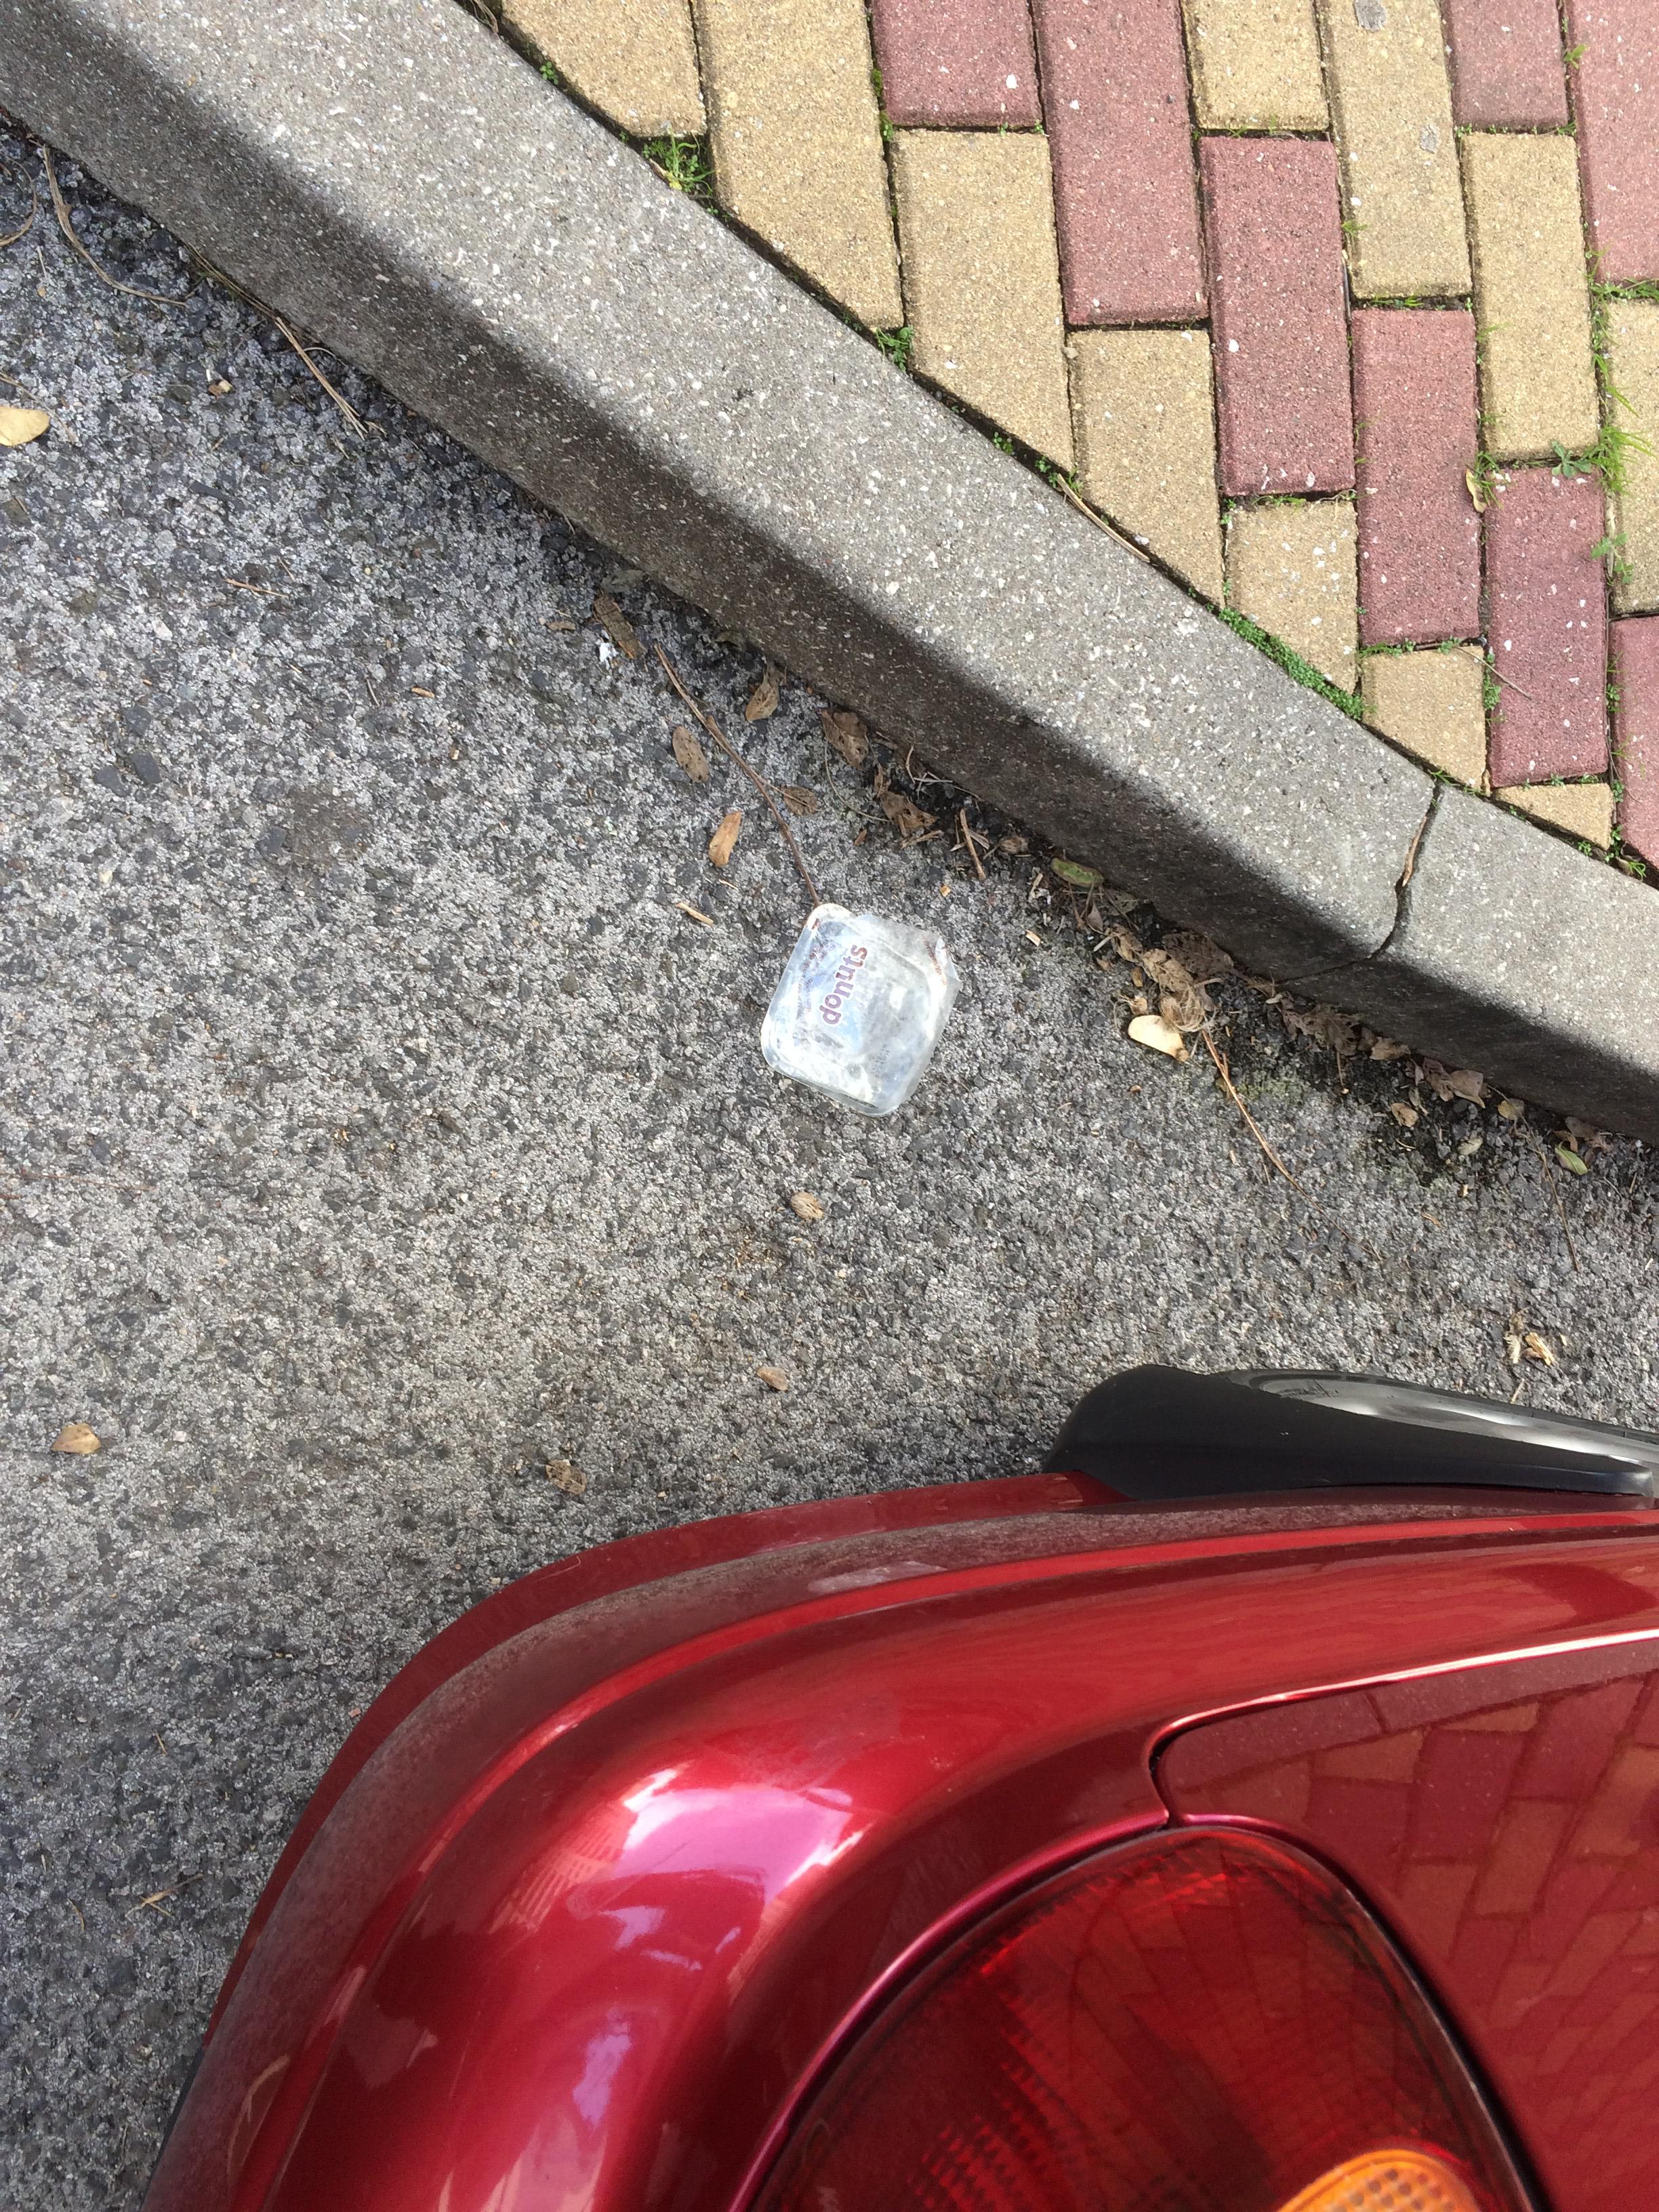Trash: (744, 885, 953, 1125)
